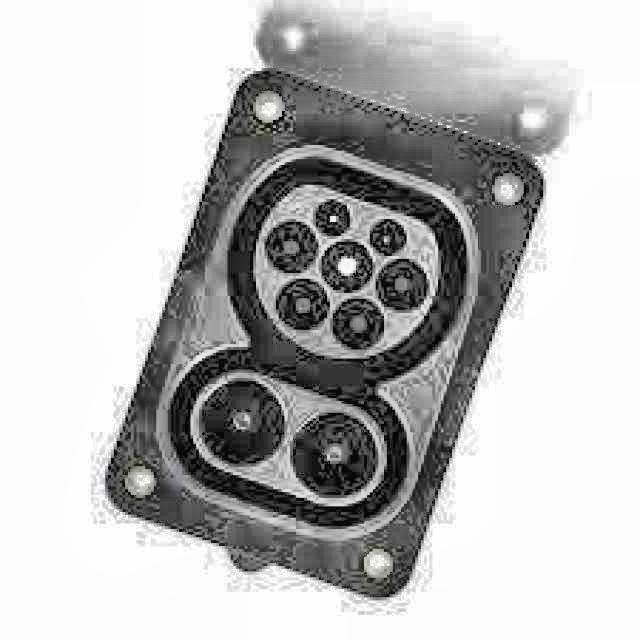inlet: (253, 185, 439, 359)
inlet-above-left: (314, 199, 351, 236)
inlet-above-right: (368, 219, 406, 256)
inlet-below-left: (275, 277, 330, 331)
inlet-below-right: (331, 299, 385, 350)
inlet-center: (321, 240, 374, 293)
inlet-center-left: (265, 218, 319, 274)
inlet-center-right: (375, 259, 427, 312)
